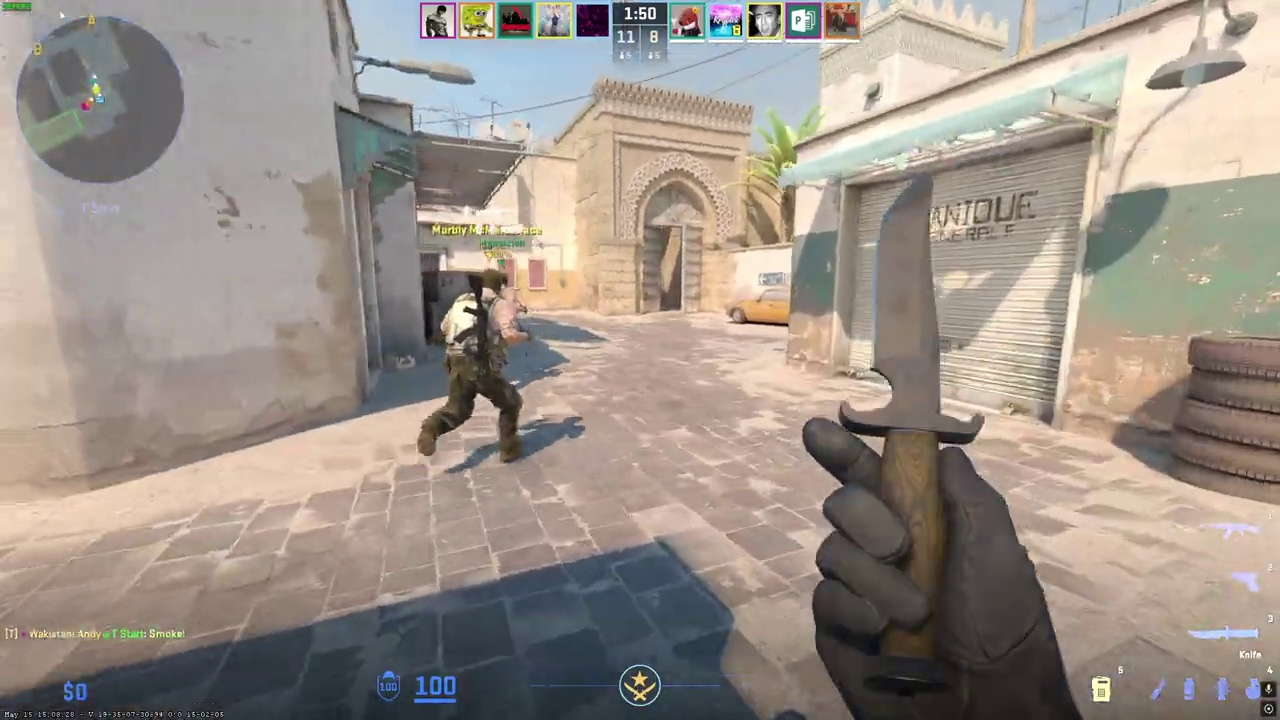Terrorist: (421, 267, 526, 465)
